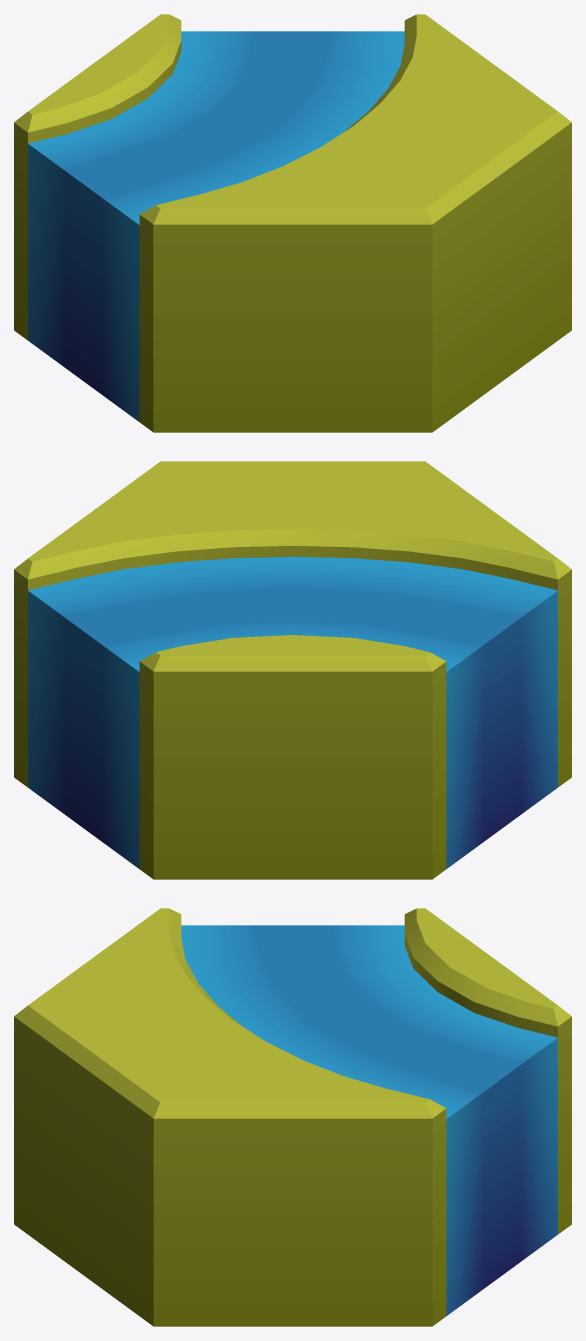
Rendered from kaykit-medieval-hexagon-pack-hex-river-b.glb.
3 renders of one model, top to bottom at view 1: azimuth 30°, elevation 25°; view 2: azimuth 150°, elevation 25°; view 3: azimuth 270°, elevation 25°, orthographic.
Parts seen in each view (by area): view 1: hex_river_B; view 2: hex_river_B; view 3: hex_river_B.
Part boxes in pixels (x1,y1,x2,y2): hex_river_B: (14, 14, 571, 432); hex_river_B: (14, 461, 571, 879); hex_river_B: (14, 908, 571, 1326).
Size of the model in its own units: 2 by 1 by 2.31.
Materials: 1 (1 with a texture image).
